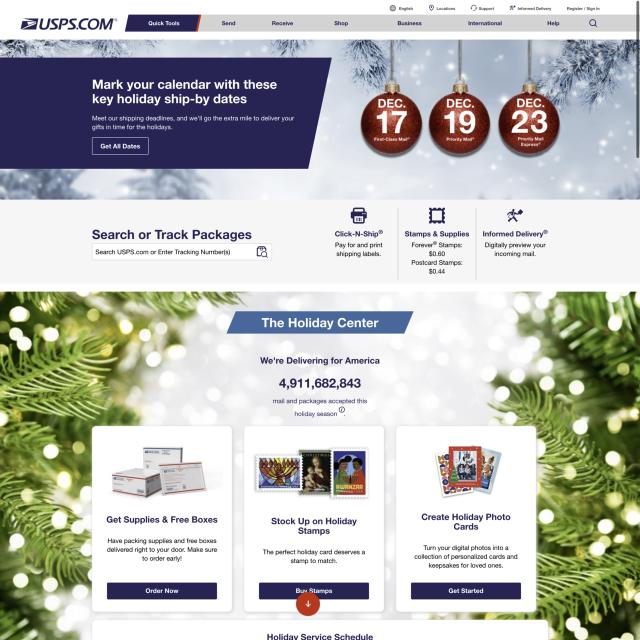input: (92, 243, 274, 261)
logo: (17, 14, 120, 36)
navigation: (127, 15, 571, 32), (387, 3, 606, 13)
